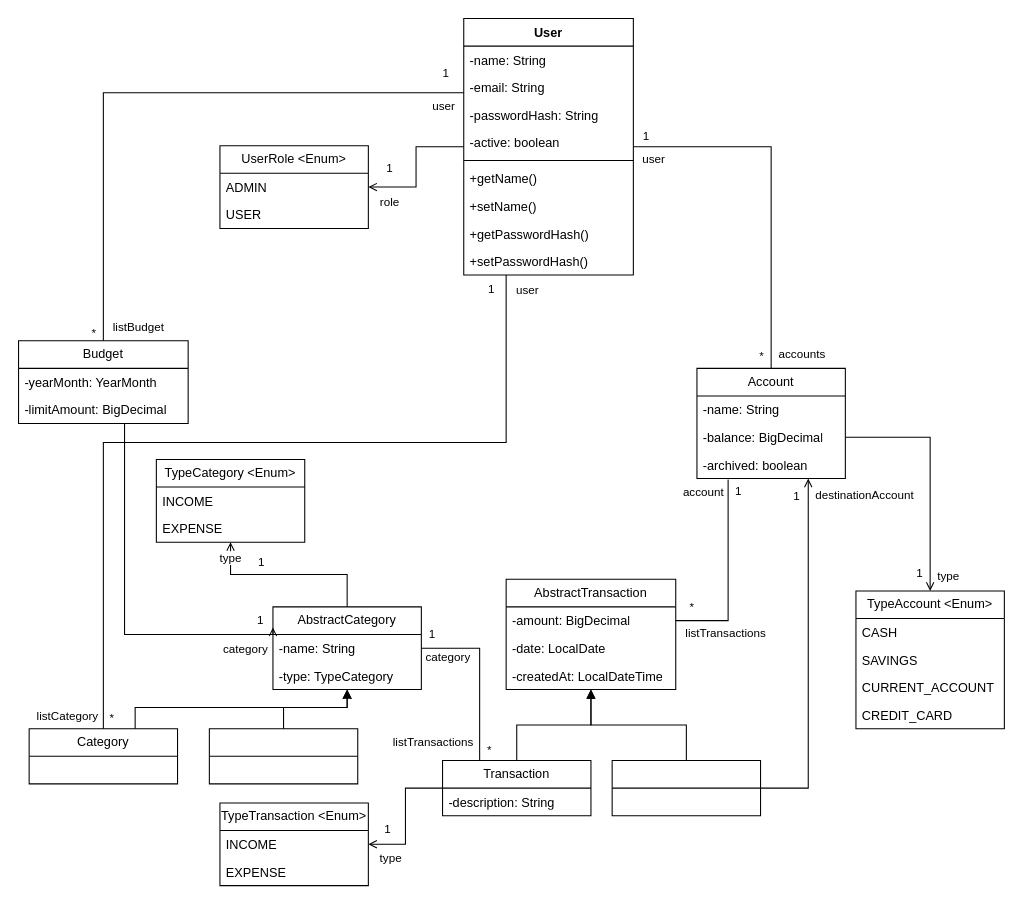
Image size: 1023x907. Some labels were removed from this diagram. The shapes that lost their labels are listed below. From the top down, each one's centre as x and y in pixels, then its label:
At (283,756): "CategoryPredefined".
At (686,787): "Transfer".
